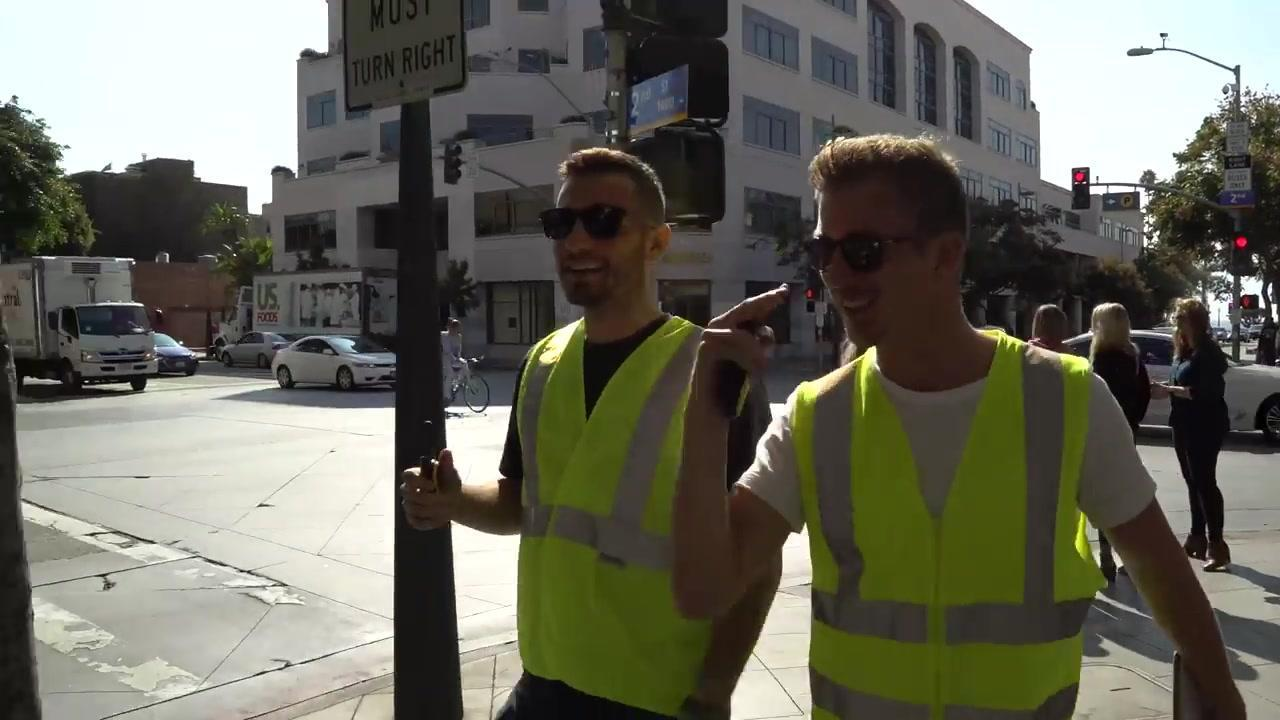vest: (789, 325, 1108, 719), (514, 308, 752, 715)
